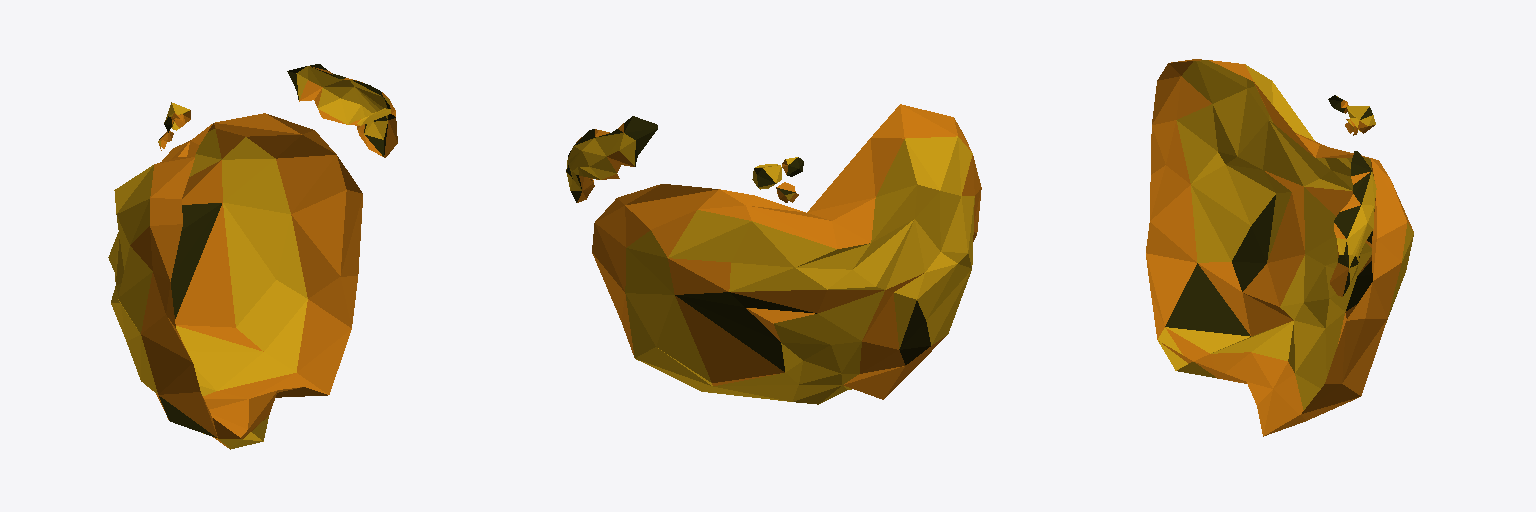
The model's file is DesertLand_1.obj.
3 views of the same model, side by side, from view 1: azimuth 30°, elevation 25°; view 2: azimuth 150°, elevation 25°; view 3: azimuth 270°, elevation 25° (orthographic).
Parts seen in each view (by area): view 1: Cylinder.001_Cylinder.000; view 2: Cylinder.001_Cylinder.000; view 3: Cylinder.001_Cylinder.000.
Boxes of the visible parts, <box> form: Cylinder.001_Cylinder.000: <box>108,64,397,449</box>; Cylinder.001_Cylinder.000: <box>566,104,981,404</box>; Cylinder.001_Cylinder.000: <box>1146,59,1413,436</box>.
Bounding box in the file's own units: 66.85 × 56.3 × 46.01.